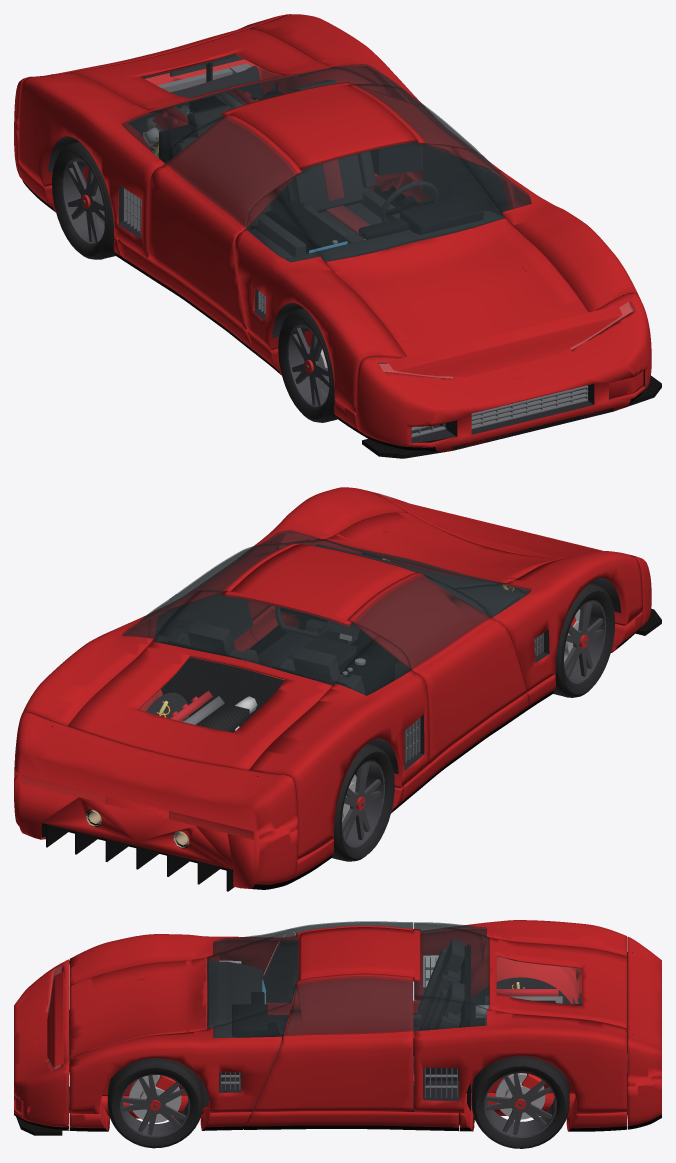
The model's file is supercar.glb.
3 renders of one model, top to bottom at view 1: azimuth 30°, elevation 25°; view 2: azimuth 150°, elevation 25°; view 3: azimuth 270°, elevation 25°, orthographic. The views are drawn at different scales.
Visible parts, largest first — view 1: bumper_front, windshield, hood, DOOR_RIGHT, fender_rear_right, fender_front_right, body_core, side_window_right, fender_front_left, engine_cover, rear_glass, fender_rear_left (+23 smaller); view 2: bumper_rear, DOOR_RIGHT, rear_glass, fender_rear_right, engine_cover, body_core, fender_front_right, hood, side_window_right, fender_rear_left, fender_front_left, bumper_front (+20 smaller); view 3: DOOR_LEFT, fender_rear_left, hood, body_core, fender_front_left, windshield, bumper_front, rear_glass, fender_rear_right, engine_cover, side_window_left, bumper_rear (+22 smaller).
Part boxes in pixels (x1=…): bumper_front: x1=356, y1=293, x2=651, y2=451; windshield: x1=246, y1=141, x2=531, y2=262; hood: x1=325, y1=218, x2=587, y2=356; DOOR_RIGHT: x1=148, y1=113, x2=301, y2=329; fender_rear_right: x1=18, y1=72, x2=164, y2=257; fender_front_right: x1=234, y1=229, x2=406, y2=412; body_core: x1=18, y1=82, x2=416, y2=436; side_window_right: x1=165, y1=115, x2=297, y2=227; fender_front_left: x1=491, y1=169, x2=638, y2=312; engine_cover: x1=68, y1=28, x2=331, y2=111; rear_glass: x1=121, y1=64, x2=408, y2=162; fender_rear_left: x1=249, y1=14, x2=422, y2=180; bumper_rear: x1=14, y1=712, x2=297, y2=889; DOOR_RIGHT: x1=348, y1=572, x2=526, y2=764; rear_glass: x1=121, y1=590, x2=411, y2=695; fender_rear_right: x1=249, y1=670, x2=429, y2=859; engine_cover: x1=68, y1=641, x2=332, y2=770; body_core: x1=41, y1=544, x2=642, y2=883; fender_front_right: x1=492, y1=551, x2=642, y2=691; hood: x1=325, y1=512, x2=564, y2=583; side_window_right: x1=353, y1=574, x2=491, y2=669; fender_rear_left: x1=22, y1=610, x2=165, y2=726; fender_front_left: x1=240, y1=487, x2=407, y2=620; bumper_front: x1=370, y1=491, x2=651, y2=632; DOOR_LEFT: x1=253, y1=973, x2=413, y2=1111; fender_rear_left: x1=414, y1=1009, x2=626, y2=1113; hood: x1=69, y1=957, x2=207, y2=1057; body_core: x1=69, y1=927, x2=626, y2=1131; fender_front_left: x1=69, y1=1027, x2=282, y2=1113; windshield: x1=207, y1=929, x2=298, y2=1037; bumper_front: x1=14, y1=959, x2=69, y2=1130; rear_glass: x1=414, y1=922, x2=489, y2=1030; fender_rear_right: x1=414, y1=920, x2=626, y2=1003; engine_cover: x1=489, y1=937, x2=626, y2=1028; side_window_left: x1=284, y1=976, x2=413, y2=1035; bumper_rear: x1=627, y1=936, x2=661, y2=1129.
Size of the model in its own units: 2 by 1.17 by 4.7.
33 materials, 2 textured.
